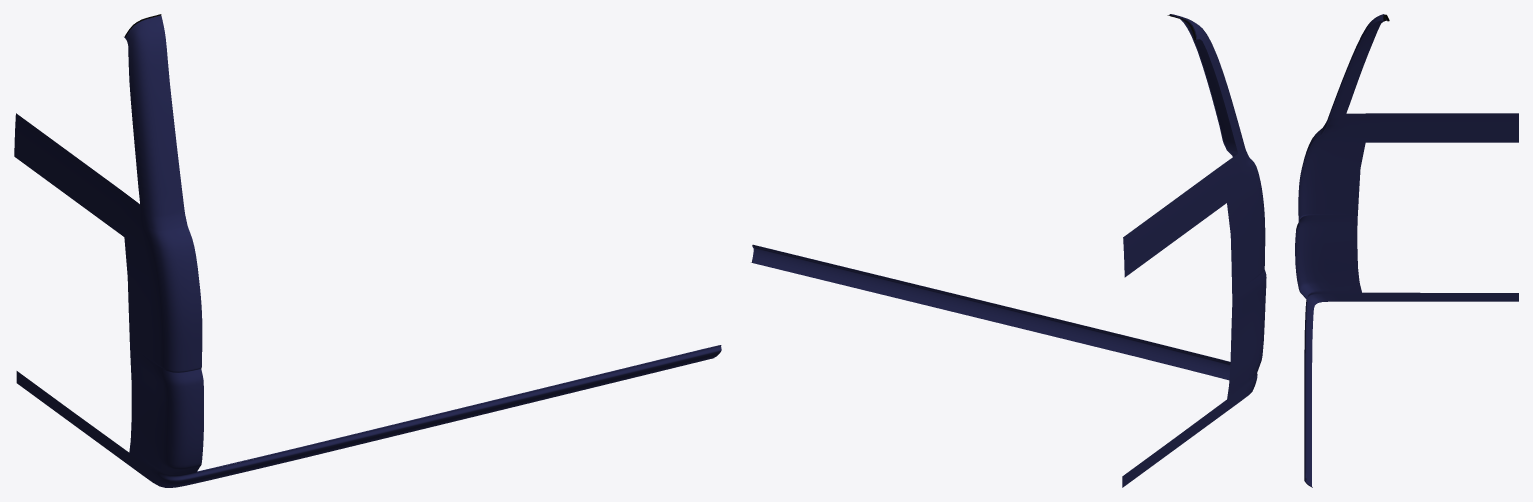
The picture shows the model from 3 angles, left to right: view 1: azimuth 30°, elevation 25°; view 2: azimuth 150°, elevation 25°; view 3: azimuth 270°, elevation 25°; orthographic projection. The views are drawn at different scales.
Visible parts, largest first — view 1: U803_3A_181X_R_1_DaS_U803_3A_181X_R, U803_3A_181X_R_1_DaS_U803_3A_181X_R_E; view 2: U803_3A_181X_R_1_DaS_U803_3A_181X_R, U803_3A_181X_R_1_DaS_U803_3A_181X_R_E; view 3: U803_3A_181X_R_1_DaS_U803_3A_181X_R, U803_3A_181X_R_1_DaS_U803_3A_181X_R_E.
Part boxes in pixels (x1,y1,x2,y2): U803_3A_181X_R_1_DaS_U803_3A_181X_R: (14, 15, 721, 487); U803_3A_181X_R_1_DaS_U803_3A_181X_R_E: (124, 37, 720, 472); U803_3A_181X_R_1_DaS_U803_3A_181X_R: (752, 14, 1266, 487); U803_3A_181X_R_1_DaS_U803_3A_181X_R_E: (751, 14, 1233, 361); U803_3A_181X_R_1_DaS_U803_3A_181X_R: (1296, 14, 1518, 486); U803_3A_181X_R_1_DaS_U803_3A_181X_R_E: (1295, 14, 1384, 487).
Bounding box in the file's own units: 176 × 130 × 88.6.
